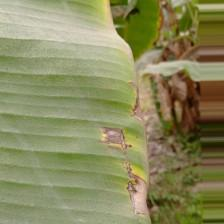cordana: (0, 0, 149, 224)
